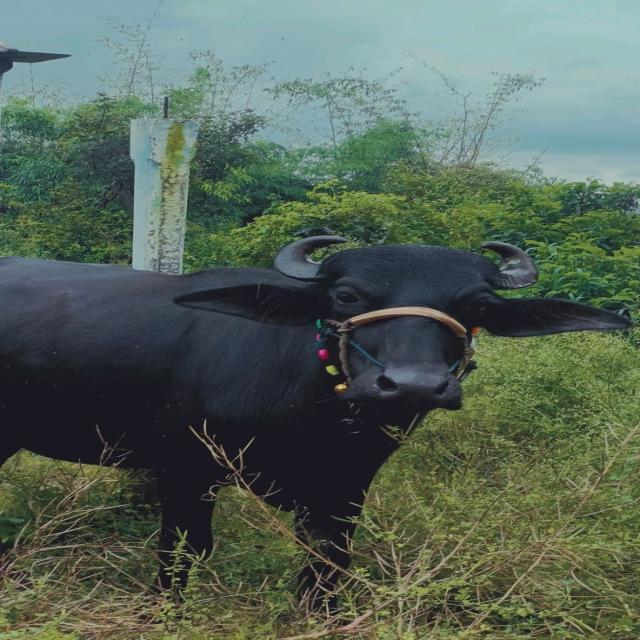Buffalo: (0, 233, 631, 620)
